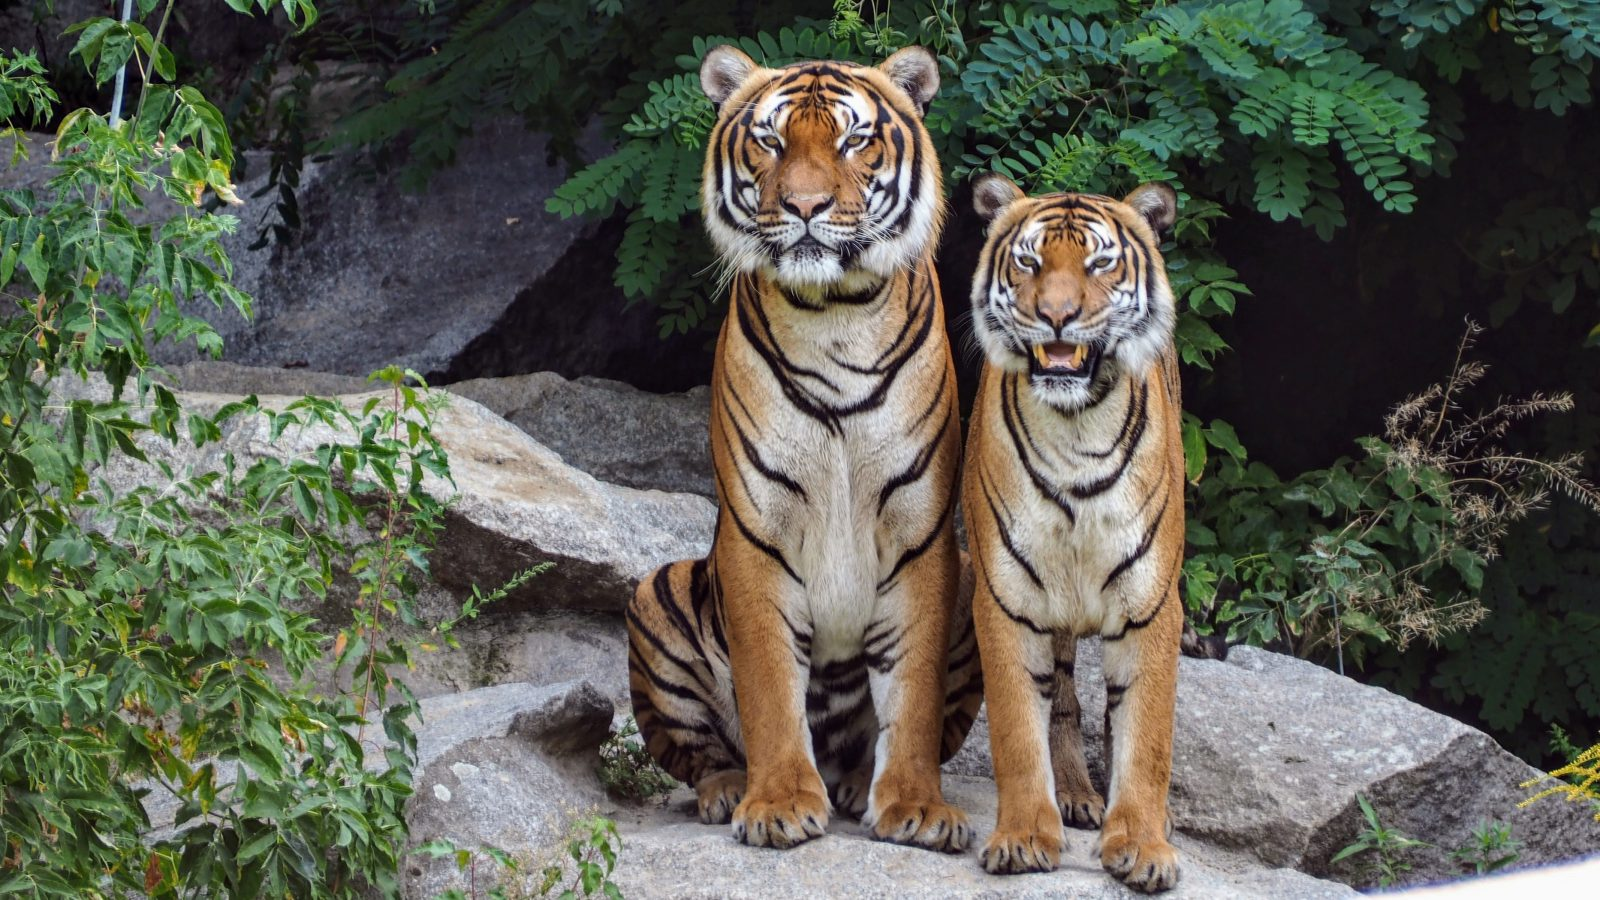Tigrew: (644, 16, 965, 860), (949, 141, 1225, 900)
